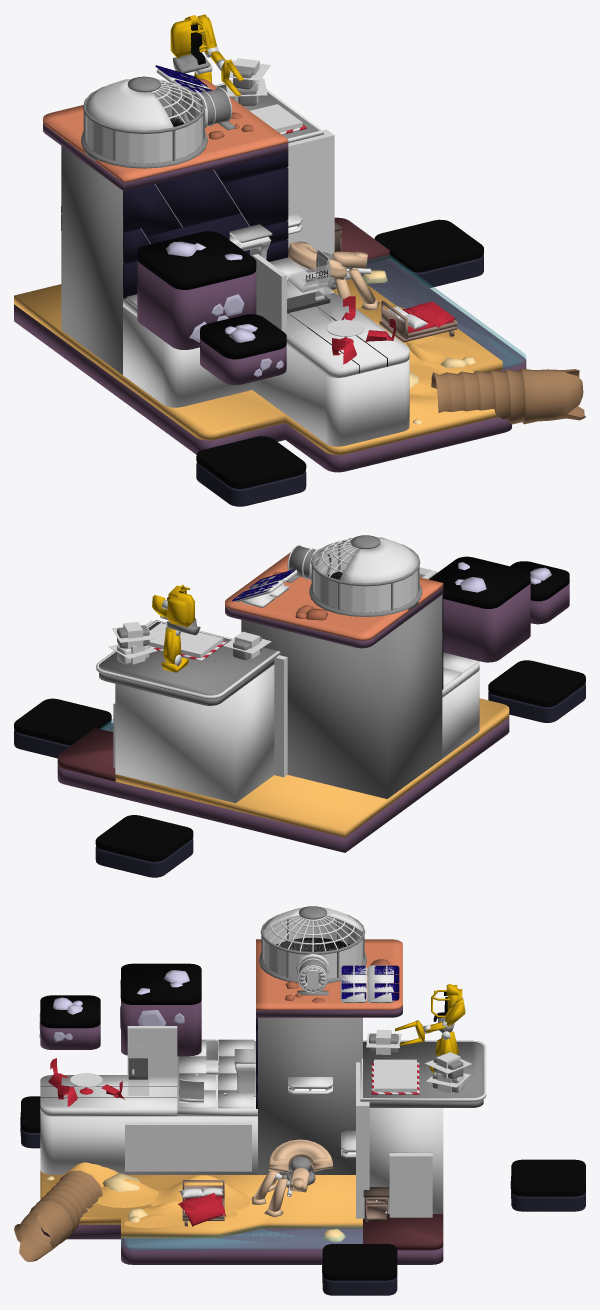
3 renders of one model, top to bottom at view 1: azimuth 30°, elevation 25°; view 2: azimuth 150°, elevation 25°; view 3: azimuth 270°, elevation 25°, orthographic. The views are drawn at different scales.
Visible parts, largest first — view 1: Plane.006, Plane.085, Plane, Plane.008, Plane.002, Circle.007, Plane.100, Plane.011, Plane.005, Cube.037, Plane.103, Plane.088 (+23 smaller); view 2: Plane.008, Plane.004, Plane.002, Plane, Plane.011, Plane.102, Plane.088, Plane.100, Plane.049, Plane.103, Plane.012, Circle.041 (+18 smaller); view 3: Plane.008, Plane.002, Plane, Plane.032, Plane.006, Plane.004, Plane.005, Plane.017, Circle.007, Plane.088, Plane.102, Plane.103 (+38 smaller).
Part boxes in pixels (box(x1,y1,x2,y2)): Plane.006: box(123, 307, 409, 446); Plane.085: box(123, 151, 288, 298); Plane: box(14, 258, 526, 472); Plane.008: box(61, 146, 249, 374); Plane.002: box(14, 279, 502, 455); Circle.007: box(431, 368, 585, 424); Plane.100: box(196, 436, 306, 506); Plane.011: box(137, 261, 256, 349); Plane.005: box(285, 292, 409, 377); Cube.037: box(287, 129, 334, 270); Plane.103: box(374, 219, 483, 287); Plane.088: box(43, 78, 288, 182); Plane.008: box(241, 595, 442, 798); Plane.004: box(115, 664, 274, 803); Plane.002: box(115, 698, 509, 837); Plane: box(57, 717, 509, 852); Plane.011: box(443, 583, 530, 662); Plane.102: box(95, 815, 193, 877); Plane.088: box(225, 552, 443, 640); Plane.100: box(488, 660, 585, 722); Plane.049: box(99, 621, 277, 695); Plane.103: box(14, 698, 111, 758); Plane.012: box(429, 556, 530, 608); Circle.041: box(339, 537, 418, 583); Plane.008: box(258, 1017, 362, 1174); Plane.002: box(40, 1170, 362, 1238); Plane: box(41, 1224, 443, 1264); Plane.032: box(125, 1122, 251, 1171); Plane.006: box(40, 1112, 257, 1174); Plane.004: box(369, 1108, 443, 1213); Plane.005: box(40, 1075, 177, 1116); Plane.017: box(121, 1225, 362, 1249); Circle.007: box(14, 1170, 102, 1261); Plane.088: box(256, 939, 402, 1010); Plane.102: box(510, 1159, 585, 1211); Plane.103: box(322, 1244, 397, 1295).
Size of what is drawn, in the model's own units: 10.53 by 6.6 by 14.19.
